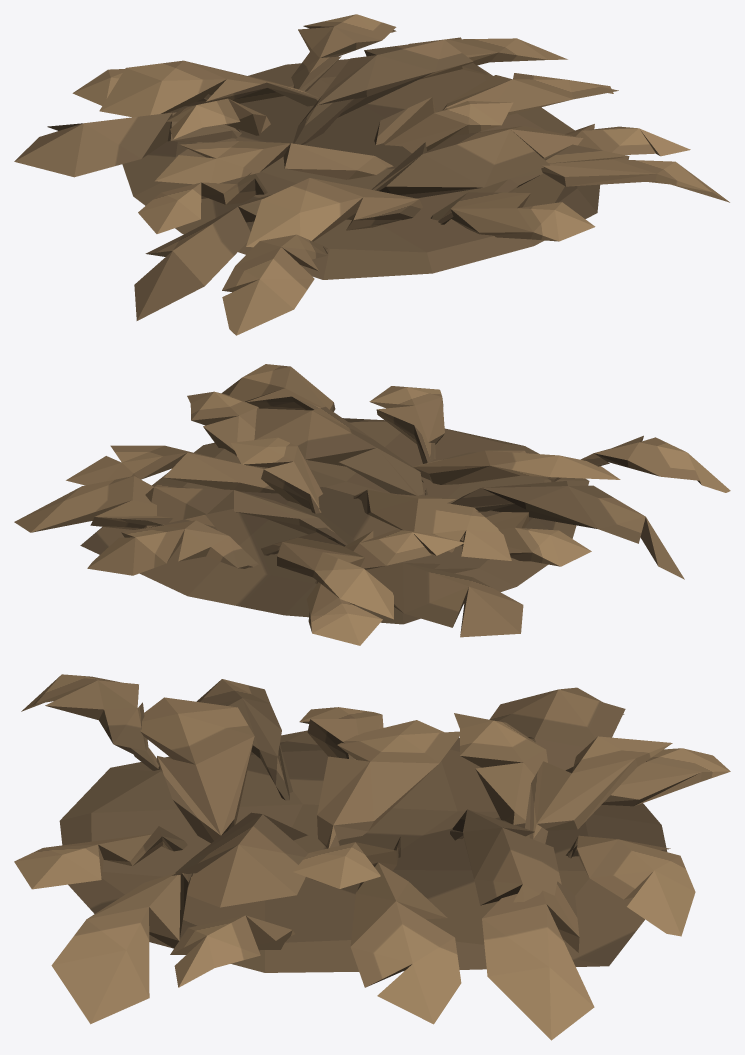
The model's file is SM_Bld_Village_Cover_Leaf_01.fbx.
3 renders of one model, top to bottom at view 1: azimuth 30°, elevation 25°; view 2: azimuth 150°, elevation 25°; view 3: azimuth 270°, elevation 25°, orthographic. The views are drawn at different scales.
Parts seen in each view (by area): view 1: SM_Bld_Village_Cover_Leaf_01; view 2: SM_Bld_Village_Cover_Leaf_01; view 3: SM_Bld_Village_Cover_Leaf_01.
Part boxes in pixels (x1,y1,x2,y2): SM_Bld_Village_Cover_Leaf_01: [14, 14, 729, 335]; SM_Bld_Village_Cover_Leaf_01: [14, 364, 730, 645]; SM_Bld_Village_Cover_Leaf_01: [14, 674, 730, 1040].
Bounding box in the file's own units: 573 × 96.02 × 511.
